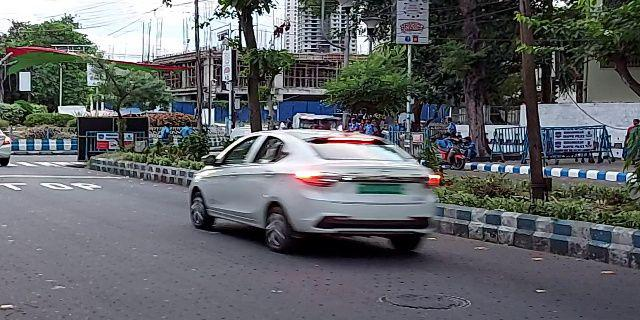Car: (187, 134, 449, 252)
